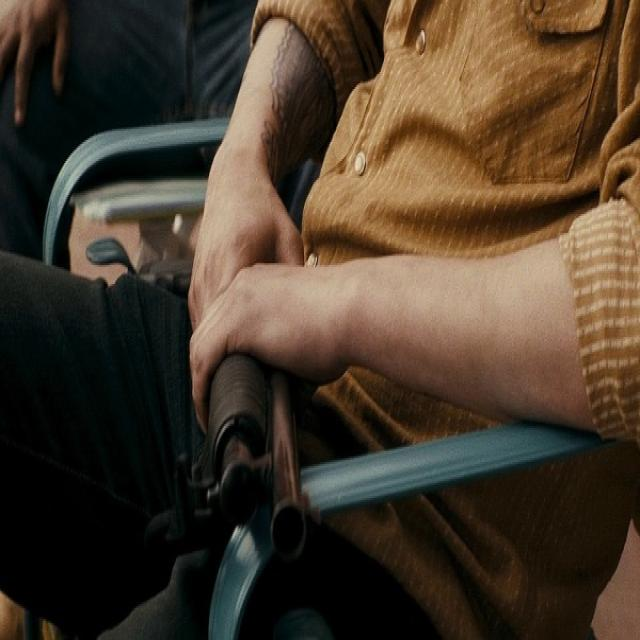rifle: (211, 360, 311, 579)
